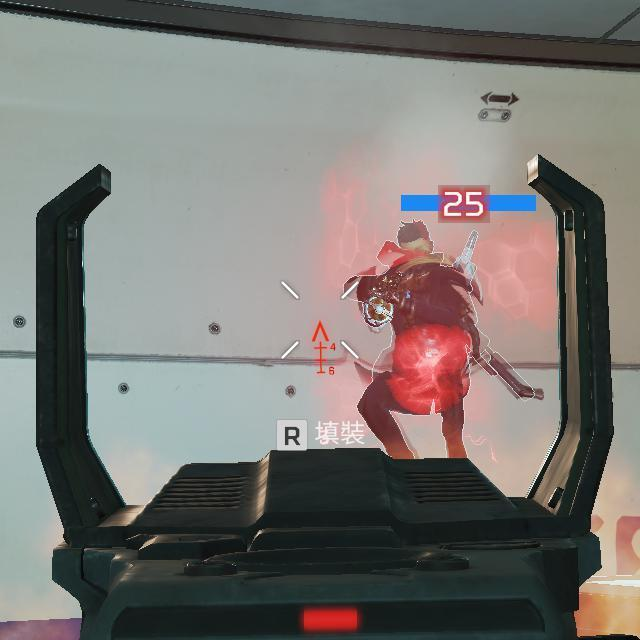avatar: (352, 216, 487, 460)
object: (385, 321, 474, 417)
